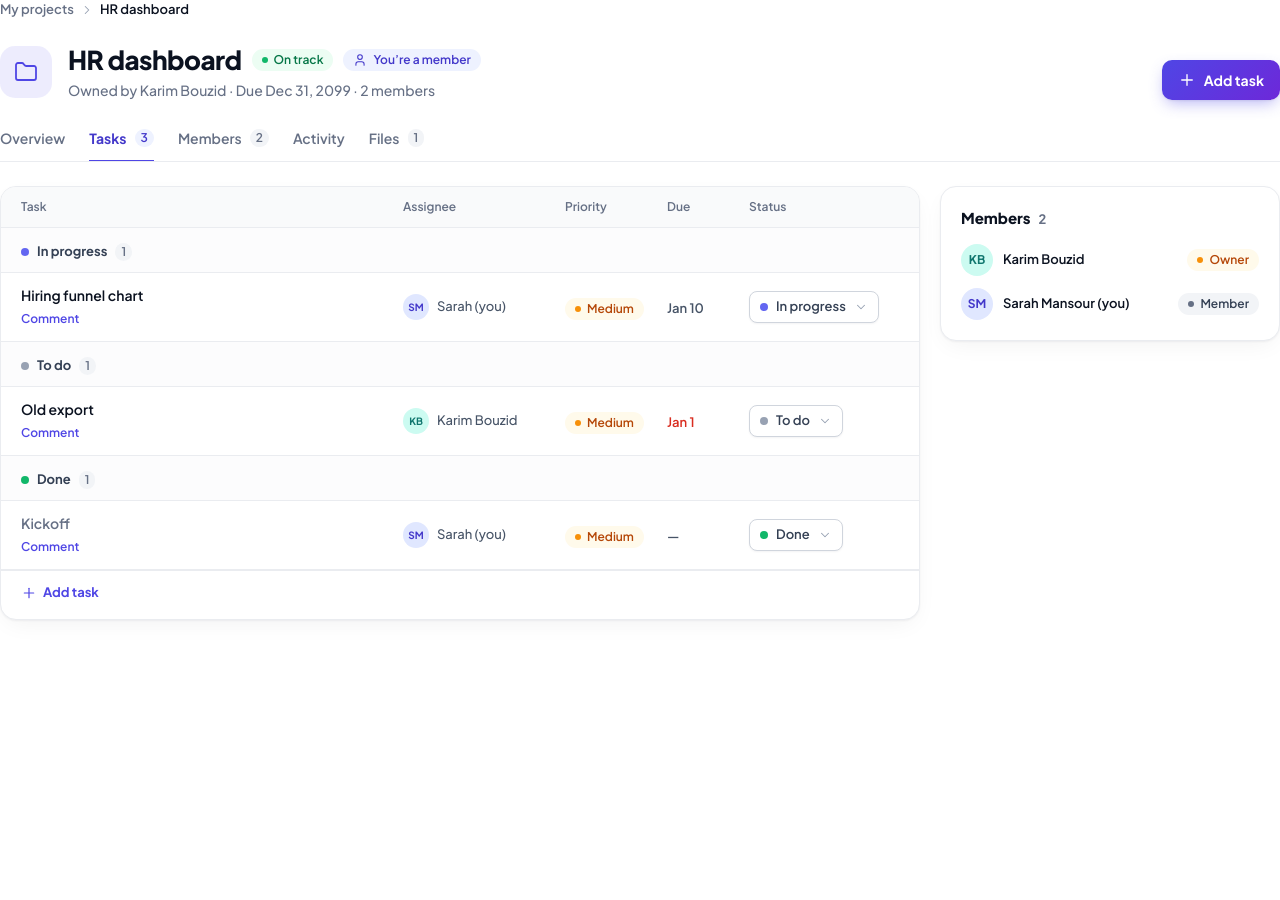
project tabs › enables every tab and switches between them
This screenshot has width=1280, height=900.
Expected: the heading "HR dashboard" is shown, [68, 44, 242, 76]
Click the tab "Overview" at (33, 143), box [0, 124, 65, 162]
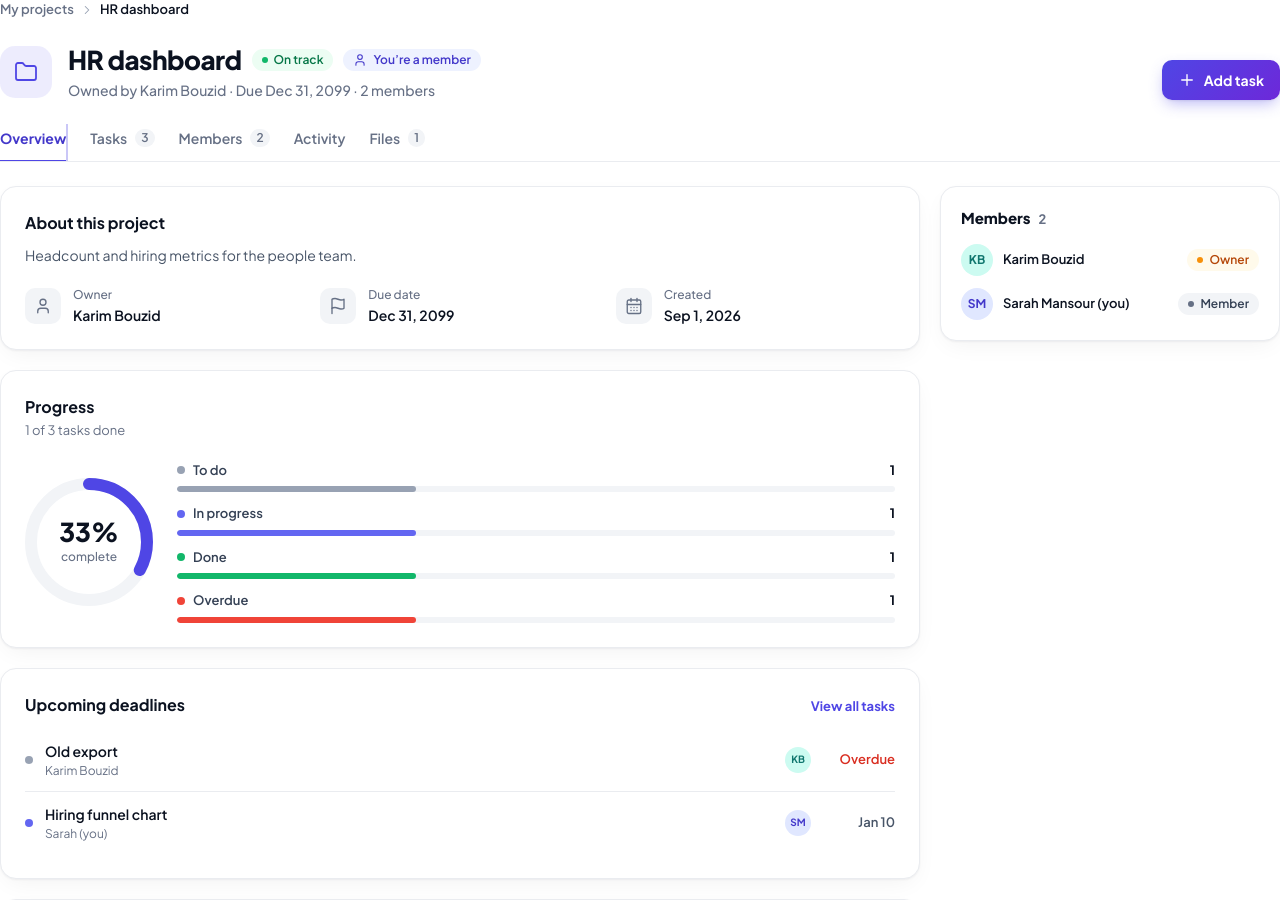
Expected: the text "Headcount and hiring metrics for the people team." is shown, [25, 246, 356, 264]
